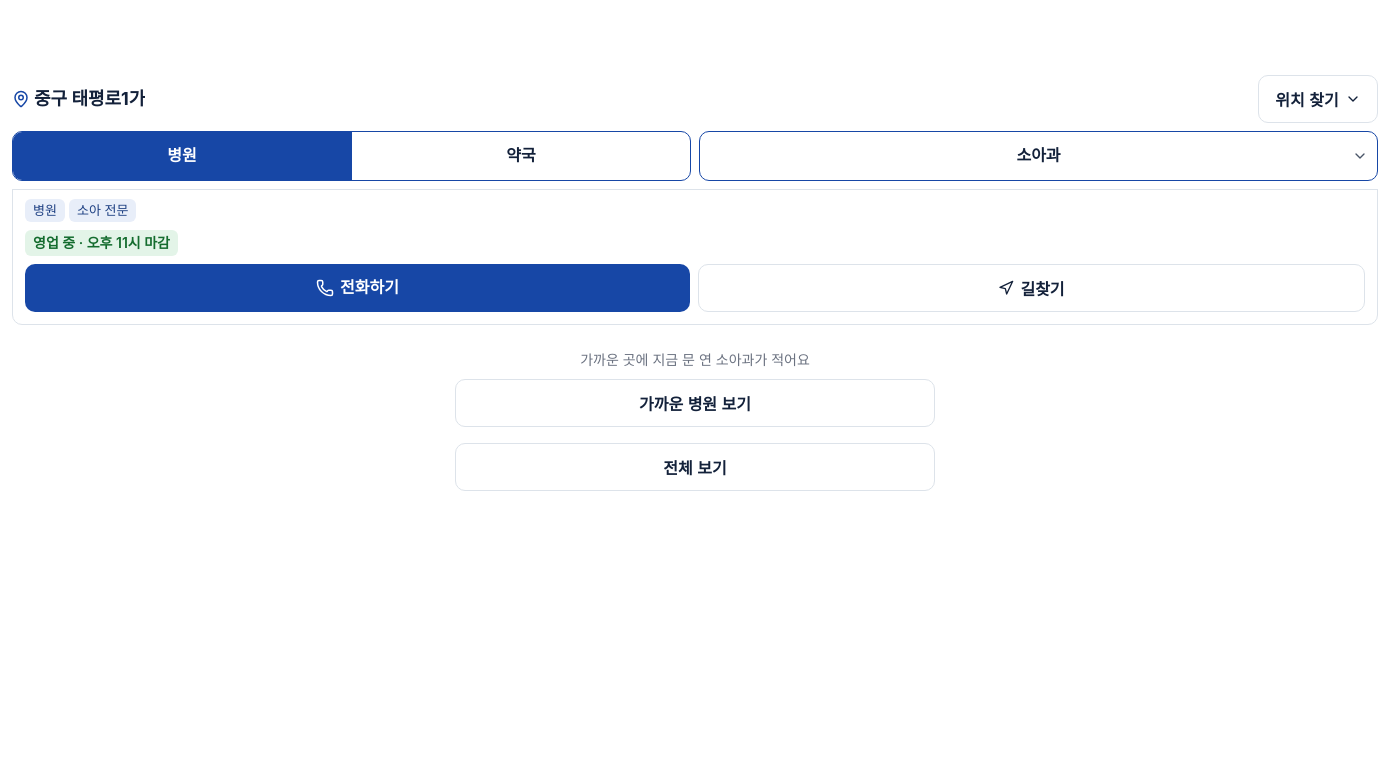
Test case: MainScreen › pediatric shows pediatric hospitals only; few open ones offer nearby hospitals, which switches the type
Expected: the dropdown named "진료과" shows "소아과", [699,131,1378,181]
Click the button "가까운 병원 보기" at point(695, 403), box [455,379,935,427]
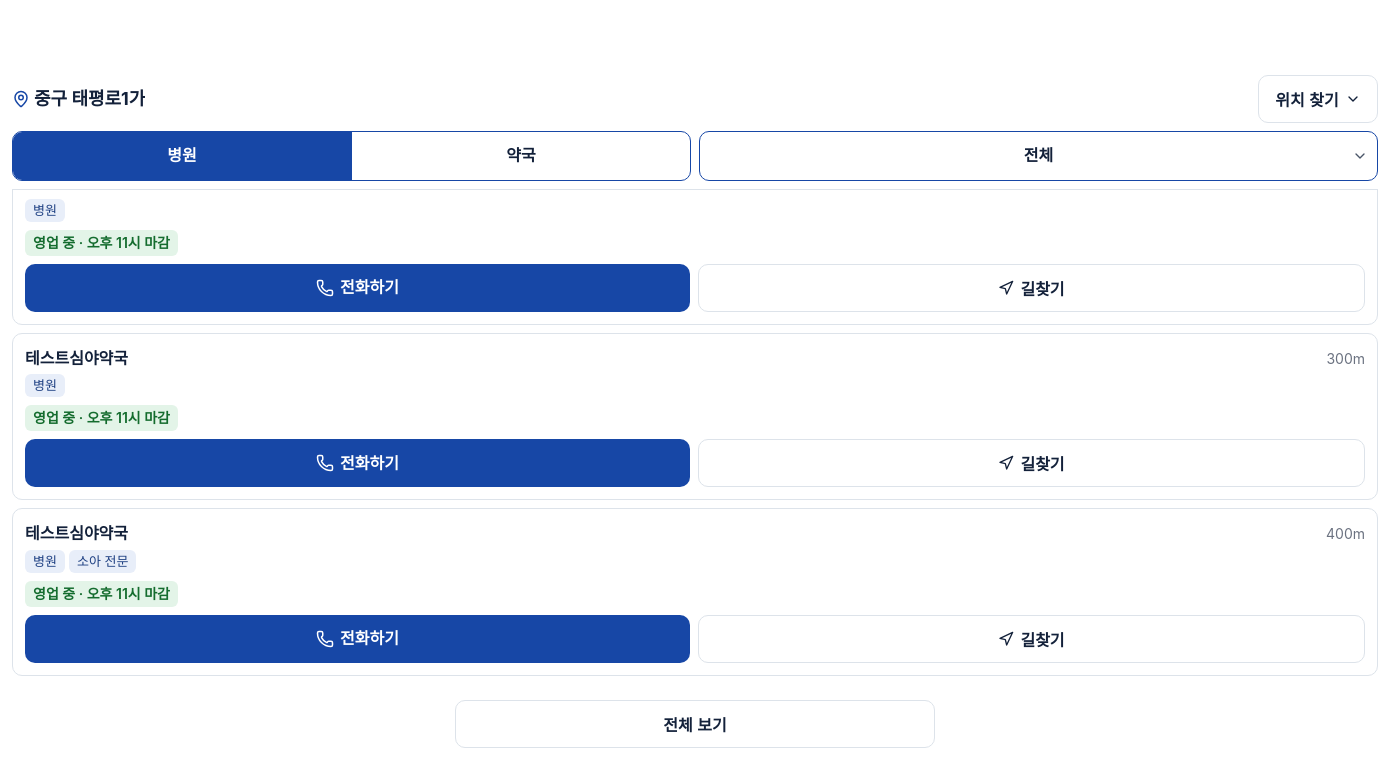
Expected: the dropdown named "진료과" shows "전체", [699,131,1378,181]
